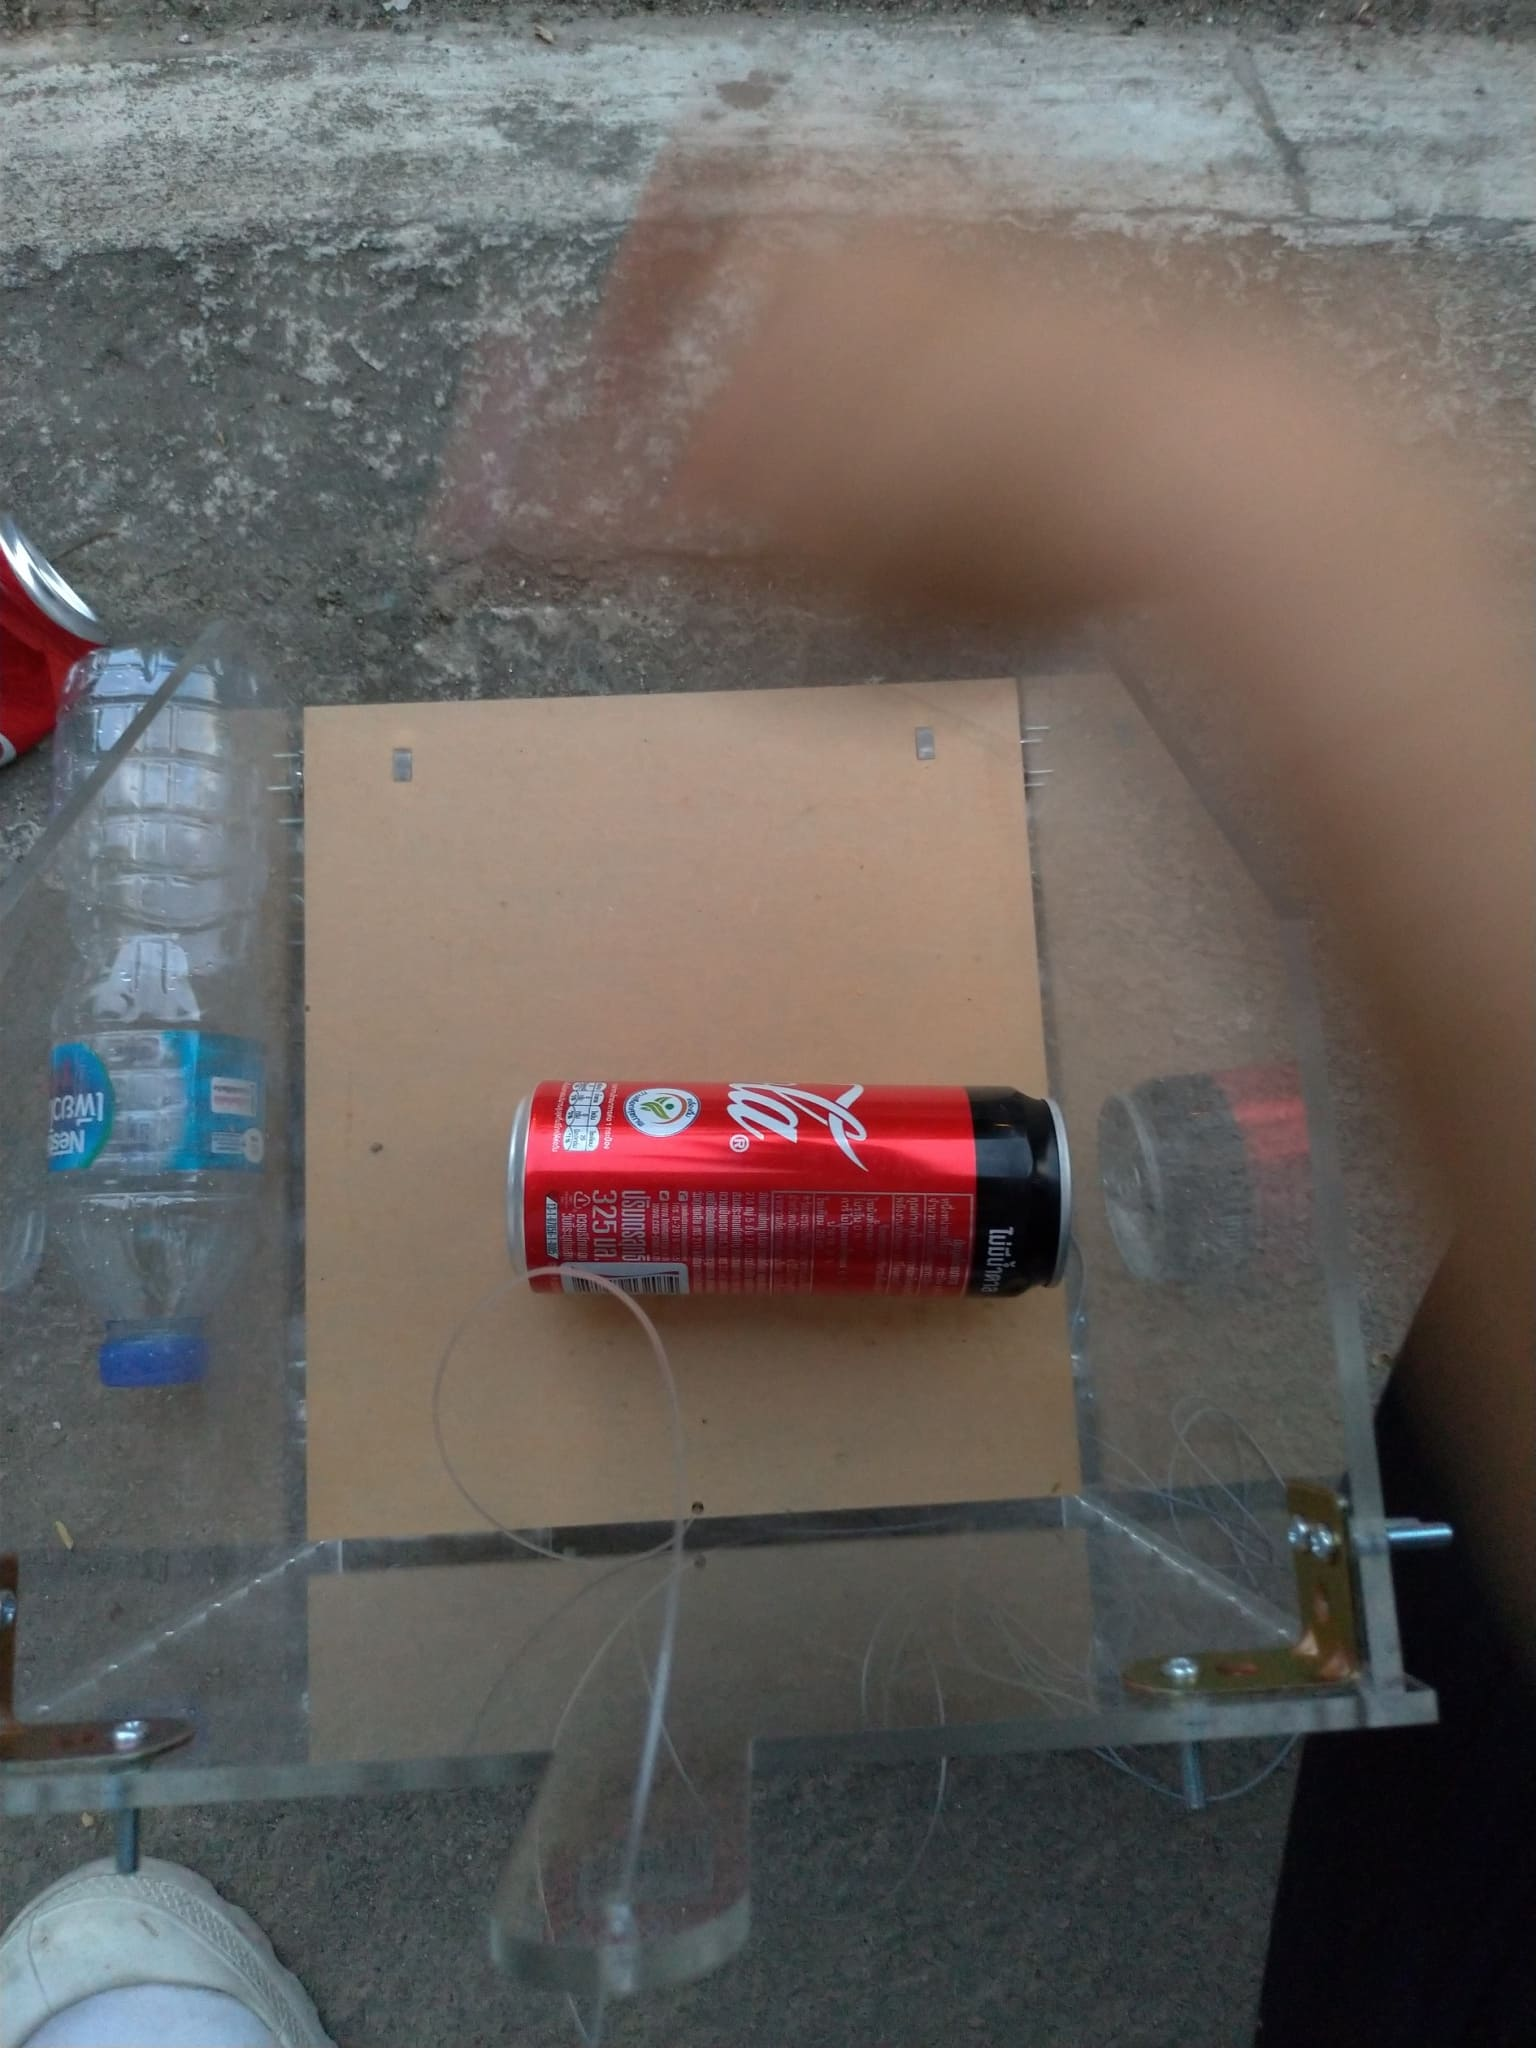AlCan: (507, 1080, 1078, 1316), (2, 503, 118, 780)
PlasticBottle: (40, 651, 273, 1384)
